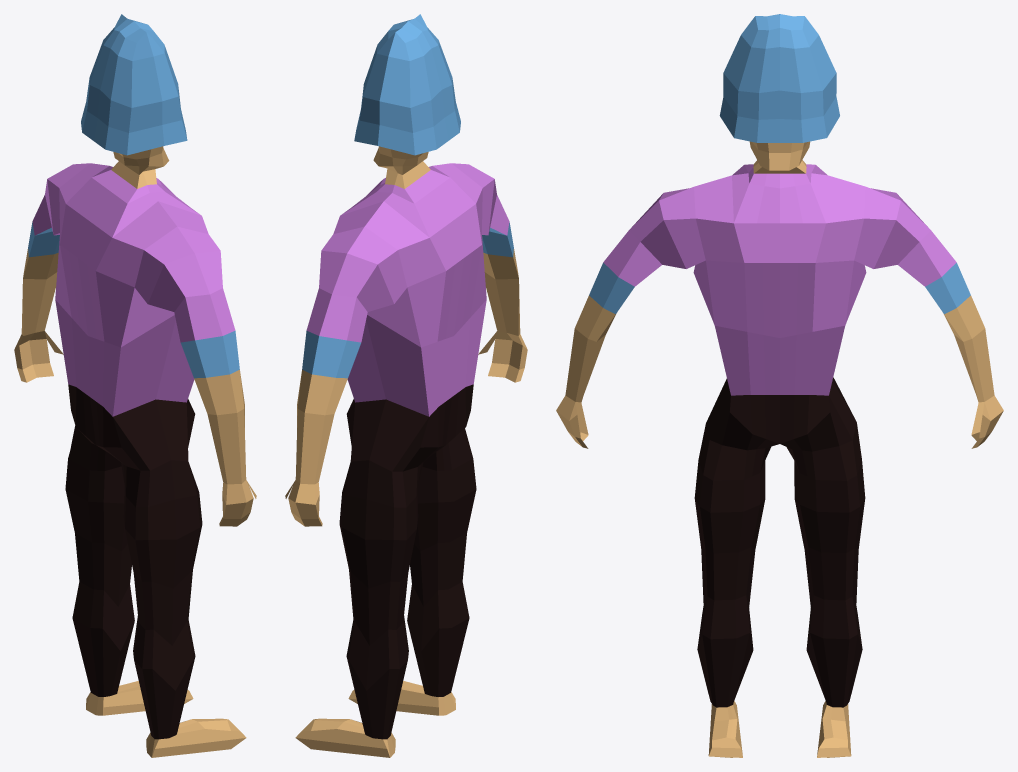
File: Customer.fbx
3 views of the same model, side by side, from view 1: azimuth 30°, elevation 25°; view 2: azimuth 150°, elevation 25°; view 3: azimuth 270°, elevation 25° (orthographic).
Visible parts, largest first — view 1: Cube.011; view 2: Cube.011; view 3: Cube.011.
Part boxes in pixels (left/top/right/bottom): Cube.011: left=14, top=14, right=256, bottom=757; Cube.011: left=285, top=14, right=527, bottom=757; Cube.011: left=556, top=14, right=1003, bottom=757.
Bounding box in the file's own units: 81.83 × 418 × 238.
